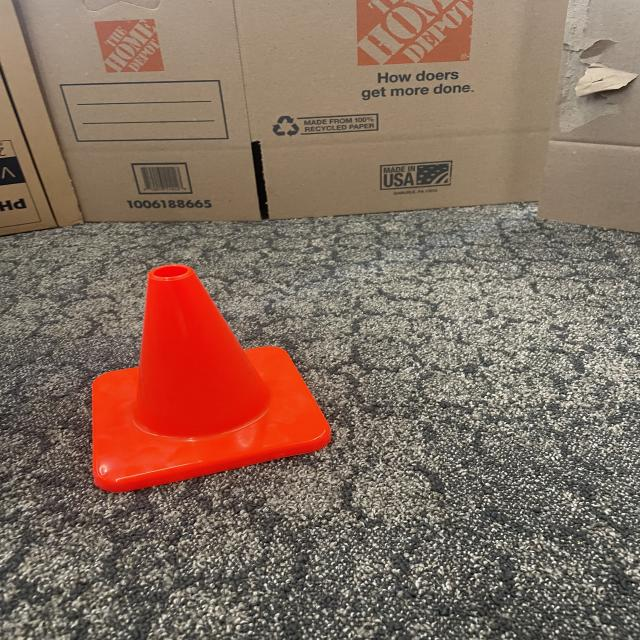Traffic Cone: (72, 254, 341, 510)
